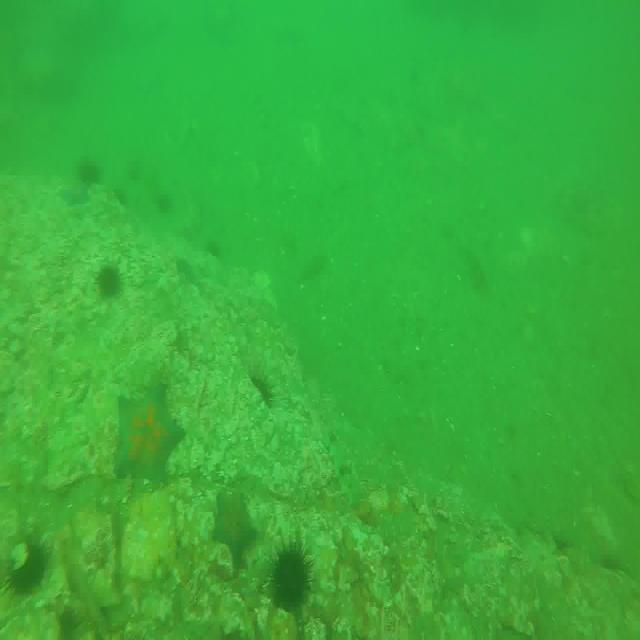echinus: (8, 534, 52, 592), (274, 539, 313, 600), (245, 366, 278, 423), (91, 256, 122, 304), (78, 161, 98, 190), (206, 239, 223, 264)
starfish: (112, 374, 182, 488), (212, 488, 254, 563), (59, 181, 86, 207)
